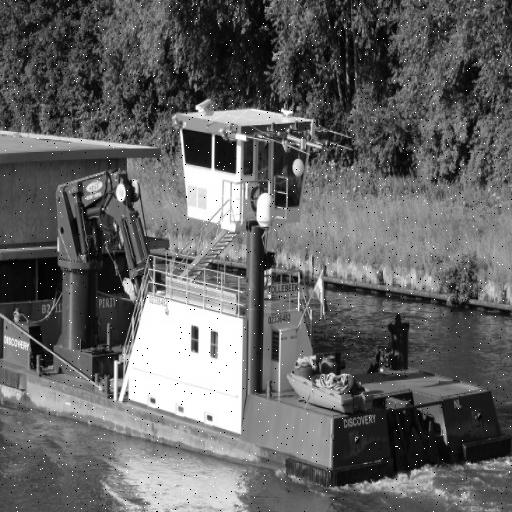tugboat: (1, 93, 512, 509)
